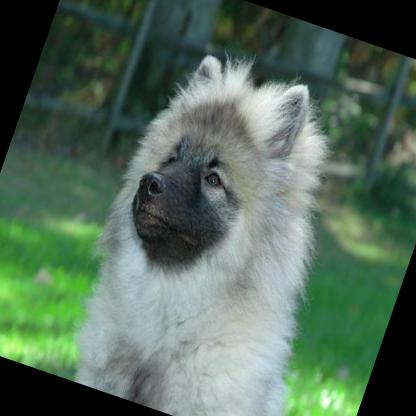keeshond: (53, 28, 393, 416)
